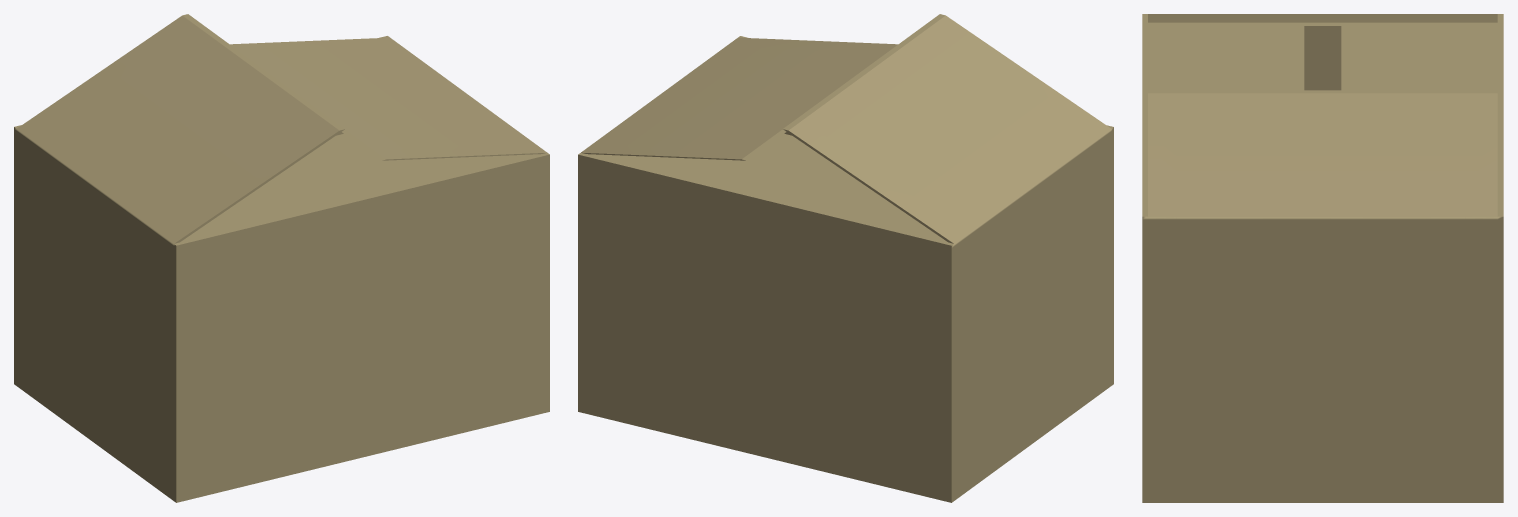
The model's file is PS_CardboardBox3_14_DF.fbx.
The picture shows the model from 3 angles, left to right: view 1: azimuth 30°, elevation 25°; view 2: azimuth 150°, elevation 25°; view 3: azimuth 270°, elevation 25°; orthographic projection. The views are drawn at different scales.
Visible parts, largest first — view 1: CardboardBox3; view 2: CardboardBox3; view 3: CardboardBox3.
Part boxes in pixels (box(x1,y1,x2,y2)): CardboardBox3: box(14, 14, 549, 502); CardboardBox3: box(578, 14, 1113, 502); CardboardBox3: box(1142, 14, 1503, 502).
Size of the model in its own units: 0.3342 by 0.2822 by 0.2514.
